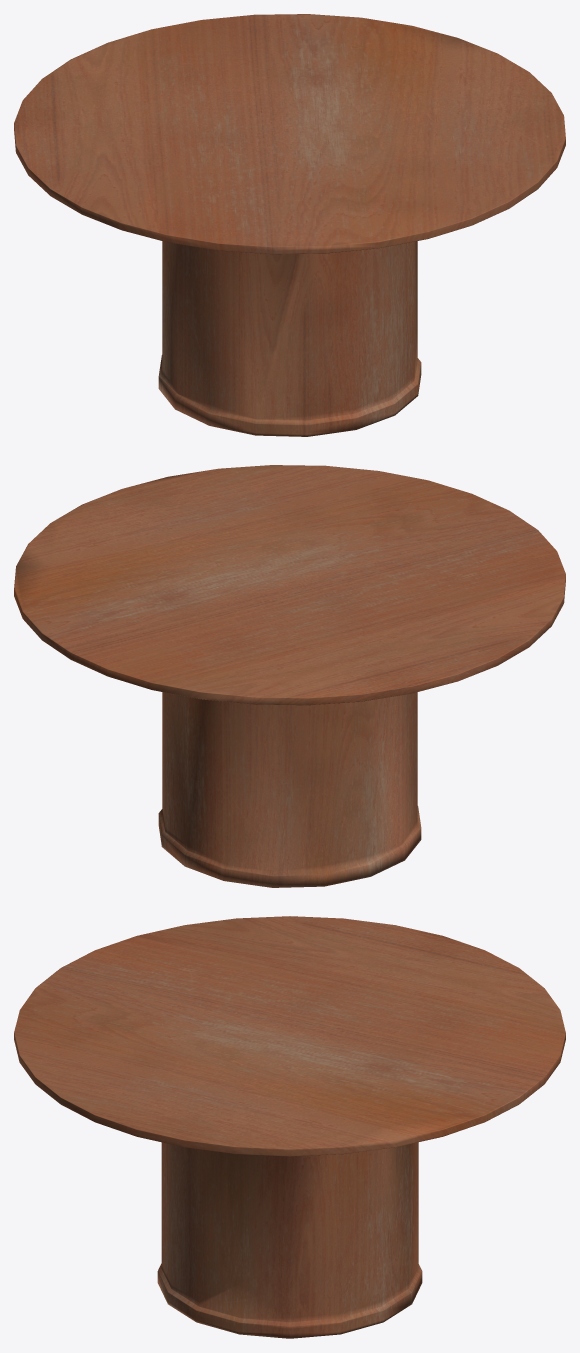
File: alma_fluted_dining_table.glb
3 views of the same model, one above another, from view 1: azimuth 30°, elevation 25°; view 2: azimuth 150°, elevation 25°; view 3: azimuth 270°, elevation 25° (orthographic).
Visible parts, largest first — view 1: ALMA Fluted Dining Table; view 2: ALMA Fluted Dining Table; view 3: ALMA Fluted Dining Table.
Boxes of the visible parts, left/top/right/bottom form: ALMA Fluted Dining Table: left=14, top=14, right=565, bottom=436; ALMA Fluted Dining Table: left=14, top=465, right=565, bottom=887; ALMA Fluted Dining Table: left=14, top=916, right=565, bottom=1338.
Bounding box in the file's own units: 0.9949 × 0.4977 × 0.9949.
Materials: 1 (1 with a texture image).
